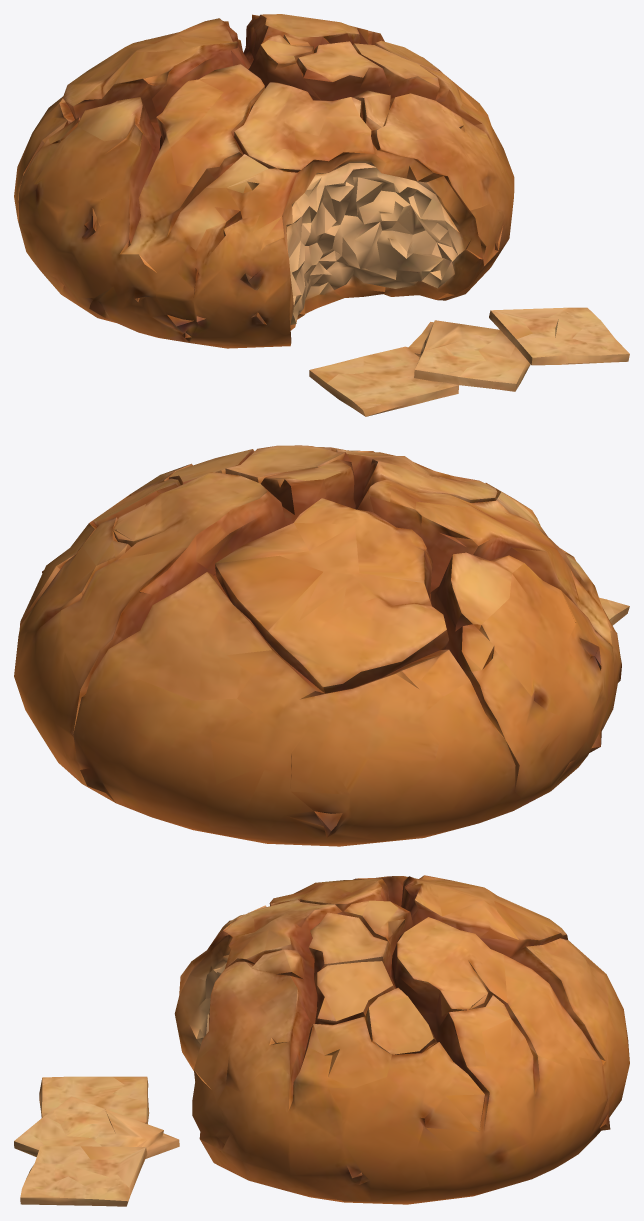
The model's file is food_bread_hleb_idle.glb.
3 renders of one model, top to bottom at view 1: azimuth 30°, elevation 25°; view 2: azimuth 150°, elevation 25°; view 3: azimuth 270°, elevation 25°, orthographic. The views are drawn at different scales.
Parts seen in each view (by area): view 1: tripo_node_f76e4f70-f940-4fe0-bc60-01ddfa4934c8; view 2: tripo_node_f76e4f70-f940-4fe0-bc60-01ddfa4934c8; view 3: tripo_node_f76e4f70-f940-4fe0-bc60-01ddfa4934c8.
Boxes of the visible parts, x1,y1,x2,y2 form: tripo_node_f76e4f70-f940-4fe0-bc60-01ddfa4934c8: (14, 14, 629, 416); tripo_node_f76e4f70-f940-4fe0-bc60-01ddfa4934c8: (14, 445, 629, 846); tripo_node_f76e4f70-f940-4fe0-bc60-01ddfa4934c8: (14, 875, 629, 1206).
Size of the model in its own units: 0.2002 by 0.1004 by 0.2512.
Materials: 1 (1 with a texture image).
